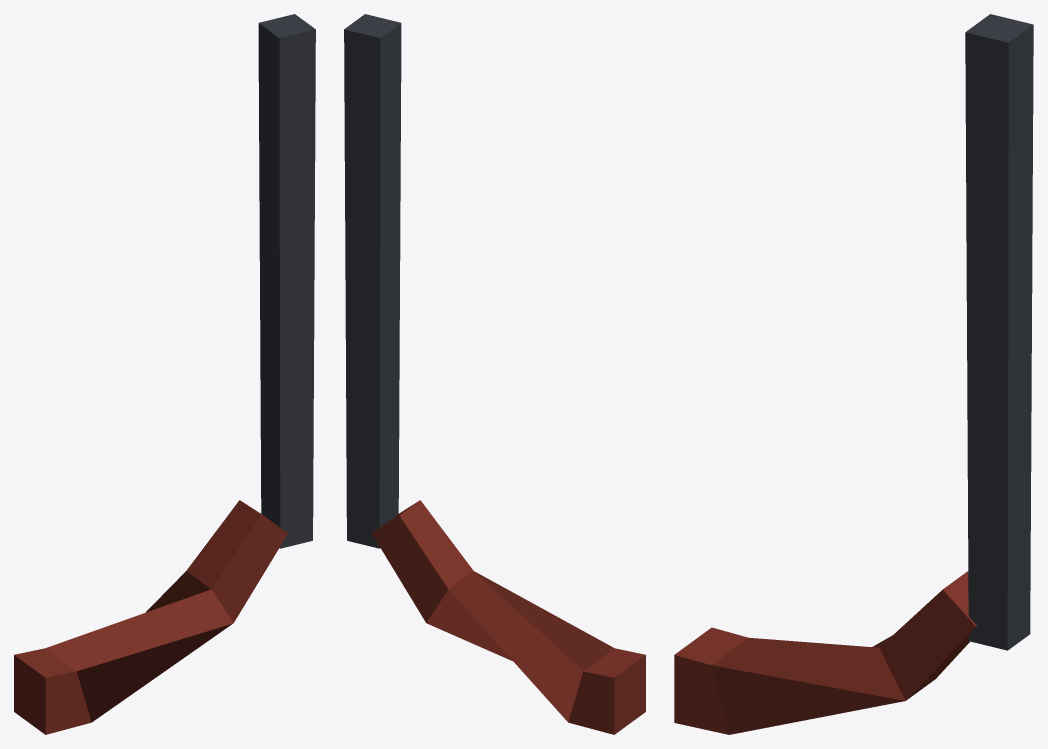
File: SM_Prop_Flintlock_LQ.glb
The picture shows the model from 3 angles, left to right: view 1: azimuth 30°, elevation 25°; view 2: azimuth 150°, elevation 25°; view 3: azimuth 330°, elevation 25°; orthographic projection. The views are drawn at different scales.
Parts seen in each view (by area): view 1: SM_Prop_Flintlock_LQ; view 2: SM_Prop_Flintlock_LQ; view 3: SM_Prop_Flintlock_LQ.
Boxes of the visible parts, x1,y1,x2,y2 form: SM_Prop_Flintlock_LQ: [14, 14, 315, 734]; SM_Prop_Flintlock_LQ: [344, 14, 645, 734]; SM_Prop_Flintlock_LQ: [674, 14, 1033, 734].
Bounding box in the file's own units: 0.2141 × 0.4712 × 0.0424.
1 material, 1 textured.
